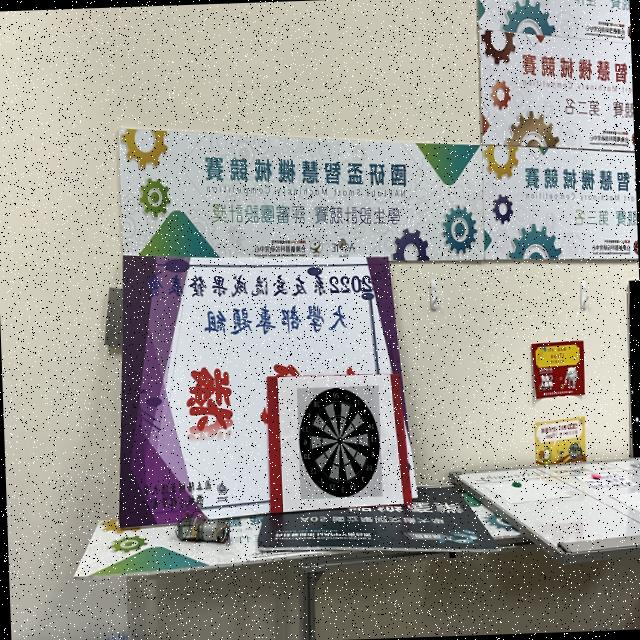archery-targets: (296, 385, 382, 499)
